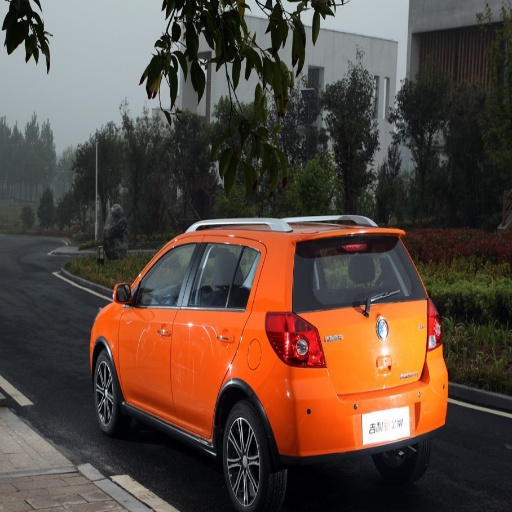back_bumper: (271, 352, 447, 451)
back_glass: (339, 251, 416, 293)
back_left_door: (174, 234, 260, 430)
trunk: (285, 286, 428, 420)
